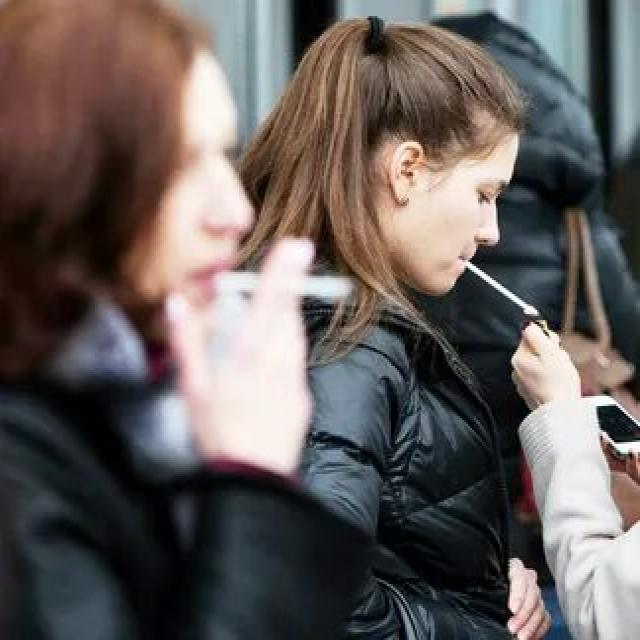smoke: (202, 266, 360, 306), (460, 258, 541, 318)
